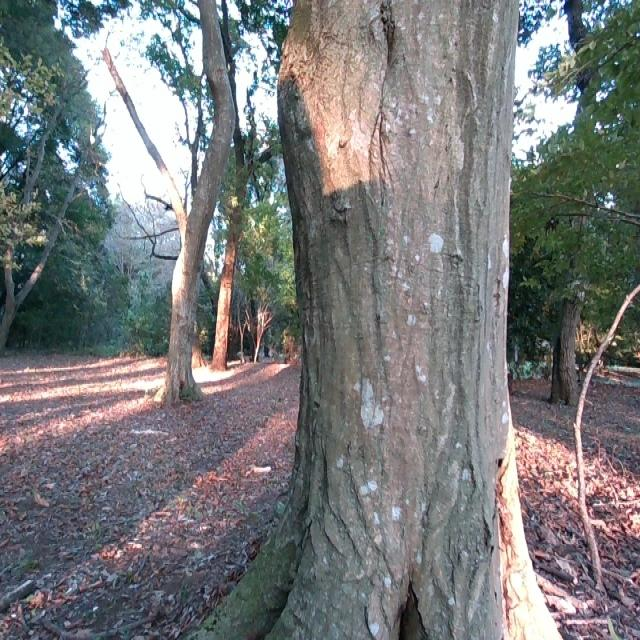tree: (189, 0, 566, 639), (157, 0, 242, 405), (0, 120, 76, 360), (553, 140, 592, 412), (209, 138, 249, 364)
